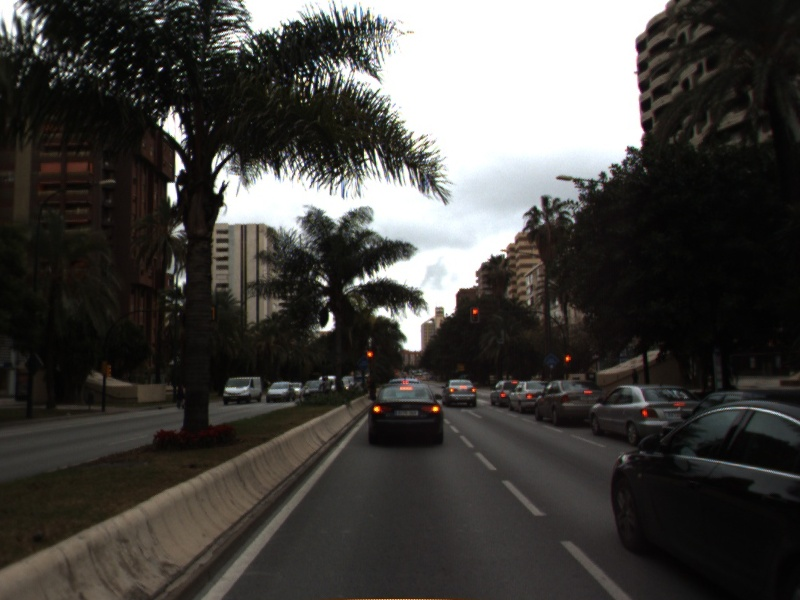STRAIGHT: (459, 405, 485, 420)
